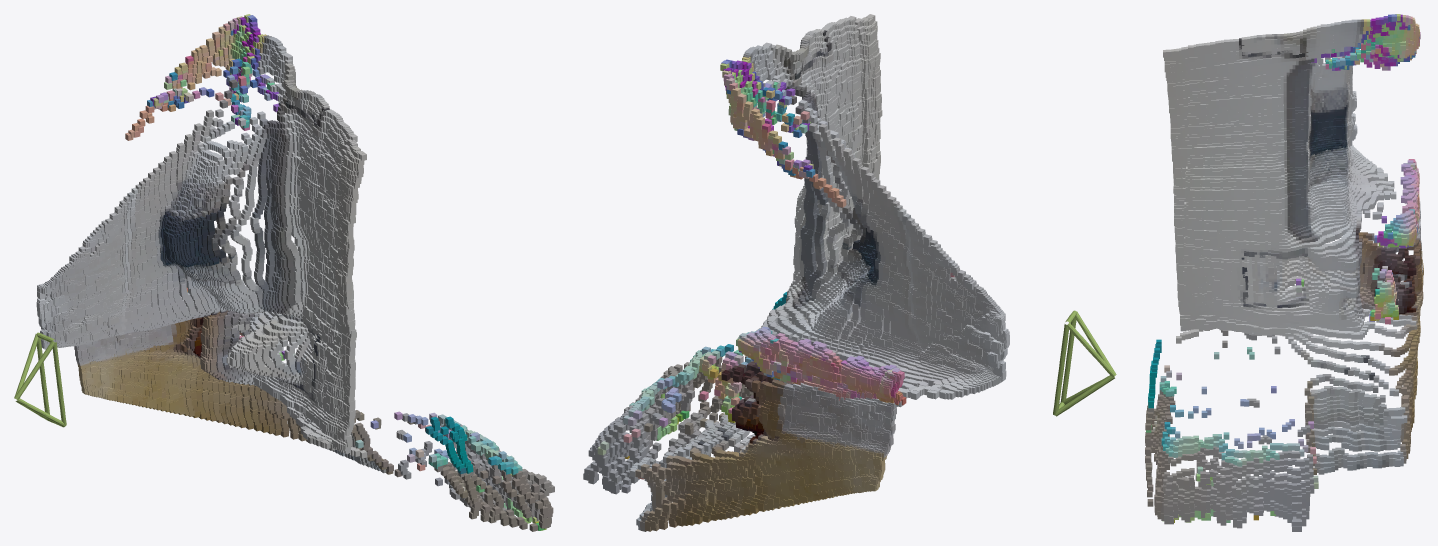
Rendered from pred_4-compressed.glb.
3 renders of one model, left to right at view 1: azimuth 30°, elevation 25°; view 2: azimuth 150°, elevation 25°; view 3: azimuth 270°, elevation 25°, orthographic. The views are drawn at different scales.
Size of the model in its own units: 4.63 by 4.35 by 2.5.
